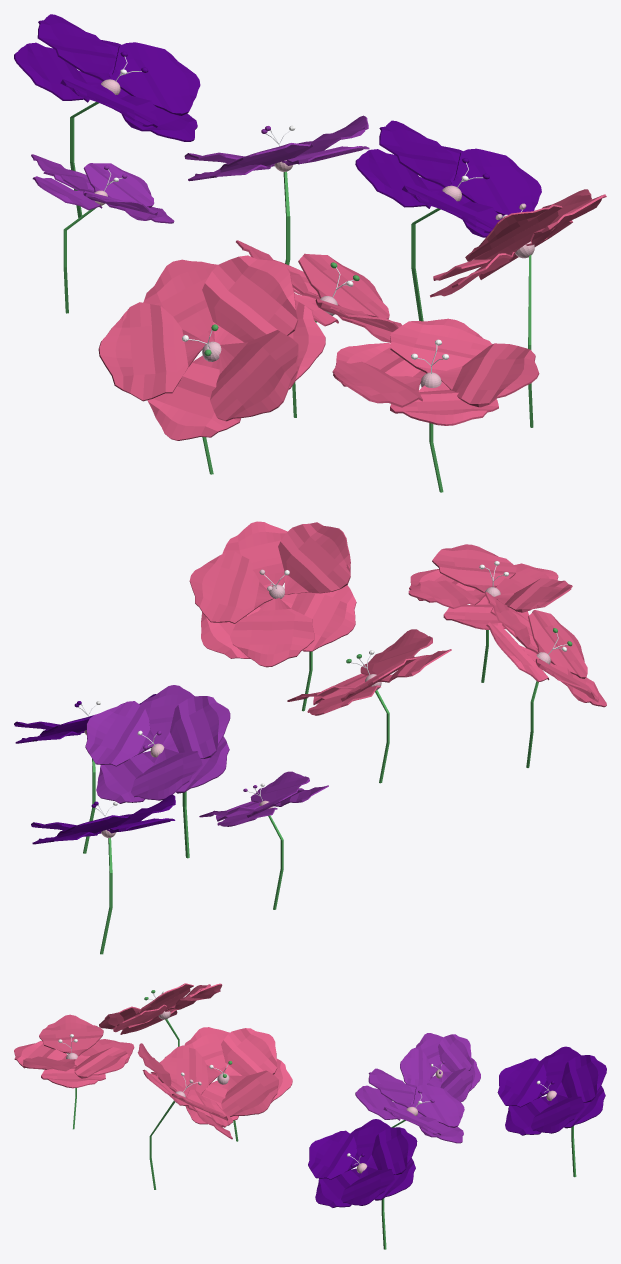
Rendered from FLOWER.fbx.
The picture shows the model from 3 angles, top to bottom: view 1: azimuth 30°, elevation 25°; view 2: azimuth 150°, elevation 25°; view 3: azimuth 270°, elevation 25°; orthographic projection. The views are drawn at different scales.
Visible parts, largest first — view 1: Cube.003, Cube.007, Cube.006, Cube.008, Cube.002, Cube.001, Cube.004, Cube.005; view 2: Cube.002, Cube.005, Cube.007, Cube.003, Cube.001, Cube.004, Cube.006, Cube.008; view 3: Cube.001, Cube.008, Cube.006, Cube.007, Cube.005, Cube.004, Cube.003, Cube.002.
Boxes of the visible parts, bbox=[...] form: Cube.003: bbox=[98, 255, 325, 474]; Cube.007: bbox=[332, 318, 539, 492]; Cube.006: bbox=[14, 14, 200, 217]; Cube.008: bbox=[355, 120, 541, 321]; Cube.002: bbox=[430, 189, 606, 427]; Cube.001: bbox=[236, 240, 402, 417]; Cube.004: bbox=[31, 154, 174, 313]; Cube.005: bbox=[184, 115, 369, 264]; Cube.002: bbox=[189, 521, 356, 711]; Cube.005: bbox=[85, 685, 230, 858]; Cube.007: bbox=[408, 544, 572, 682]; Cube.003: bbox=[484, 591, 606, 767]; Cube.001: bbox=[287, 629, 451, 783]; Cube.004: bbox=[199, 771, 328, 909]; Cube.006: bbox=[31, 794, 175, 954]; Cube.008: bbox=[14, 694, 156, 853]; Cube.001: bbox=[159, 1027, 292, 1141]; Cube.008: bbox=[308, 1119, 417, 1249]; Cube.006: bbox=[497, 1046, 606, 1177]; Cube.007: bbox=[14, 1014, 134, 1129]; Cube.005: bbox=[355, 1068, 464, 1143]; Cube.004: bbox=[400, 1033, 480, 1102]; Cube.003: bbox=[99, 983, 222, 1046]; Cube.002: bbox=[137, 1043, 232, 1189].
Bounding box in the file's own units: 1357 × 643 × 2008.
